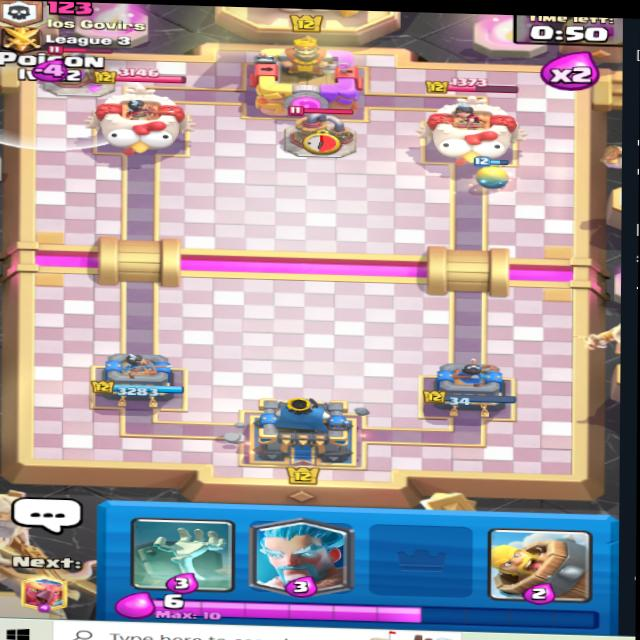elixir-collector: (276, 113, 373, 157), (37, 50, 121, 95)
